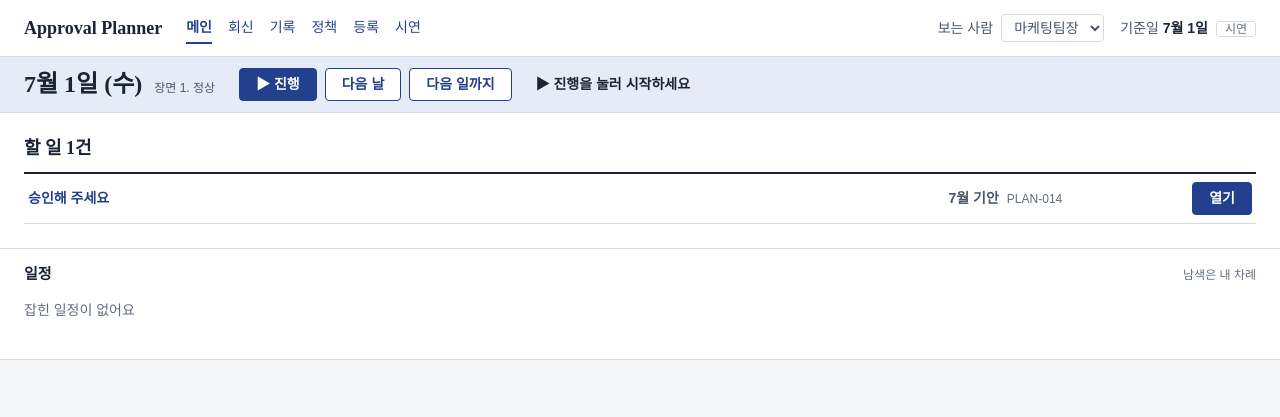
메인의 시연 막대 › 진행은_하루씩_advance
The image size is (1280, 417).
Click the button "▶ 진행" at coordinates (278, 85), box [239,68,317,101]
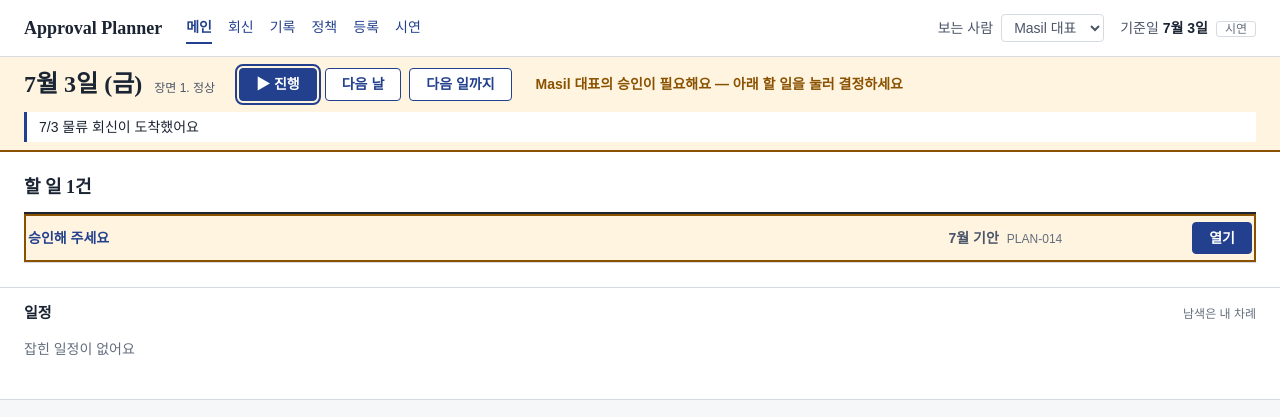
Expected: the list item "7/3 물류 회신이 도착했어요" is shown, [39,119,199,135]
